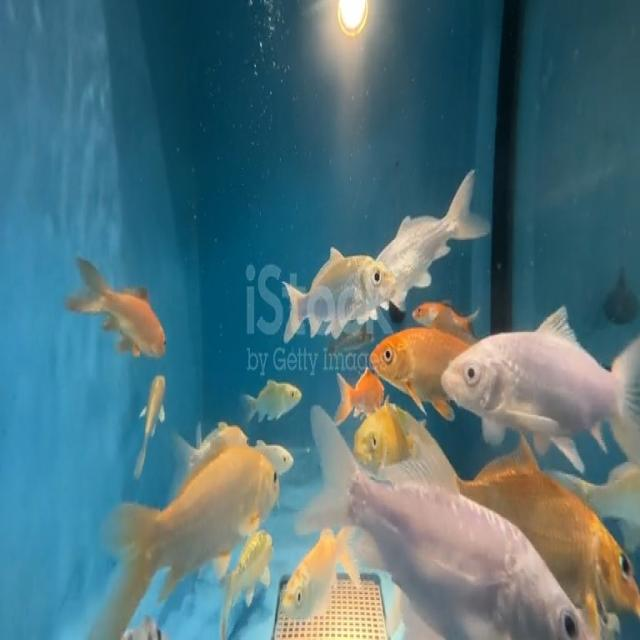fish: (304, 401, 594, 640), (462, 446, 640, 625), (97, 436, 293, 596), (436, 312, 640, 453), (377, 162, 500, 289), (62, 251, 172, 365), (278, 246, 394, 341), (277, 515, 357, 631), (360, 315, 450, 414), (218, 521, 276, 629), (129, 355, 170, 489), (243, 363, 307, 432), (331, 352, 387, 420), (164, 415, 252, 448), (407, 288, 466, 331), (266, 440, 302, 472)
